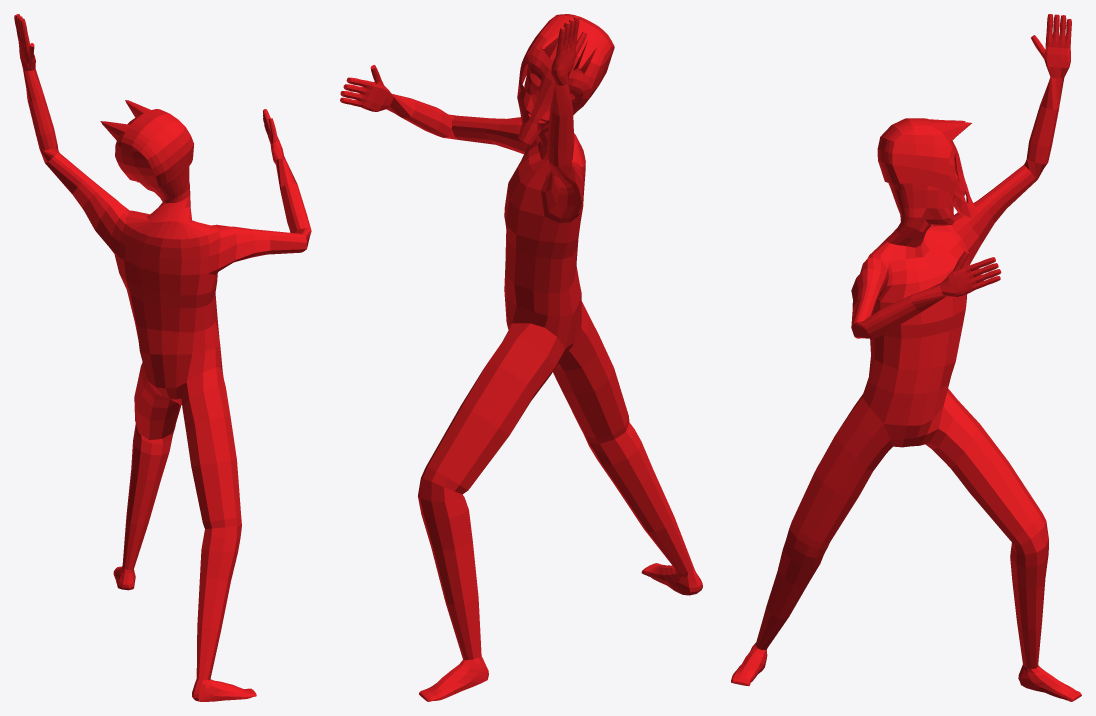
File: activaAlarma_000184.obj
3 views of the same model, side by side, from view 1: azimuth 30°, elevation 25°; view 2: azimuth 150°, elevation 25°; view 3: azimuth 270°, elevation 25° (orthographic). The views are drawn at different scales.
Parts seen in each view (by area): view 1: Plane.002_Plane.001; view 2: Plane.002_Plane.001; view 3: Plane.002_Plane.001.
Part boxes in pixels (x1,y1,x2,y2): Plane.002_Plane.001: (14, 14, 311, 701); Plane.002_Plane.001: (340, 14, 702, 701); Plane.002_Plane.001: (731, 14, 1081, 701).
Size of the model in its own units: 2.98 by 7.54 by 3.81.
